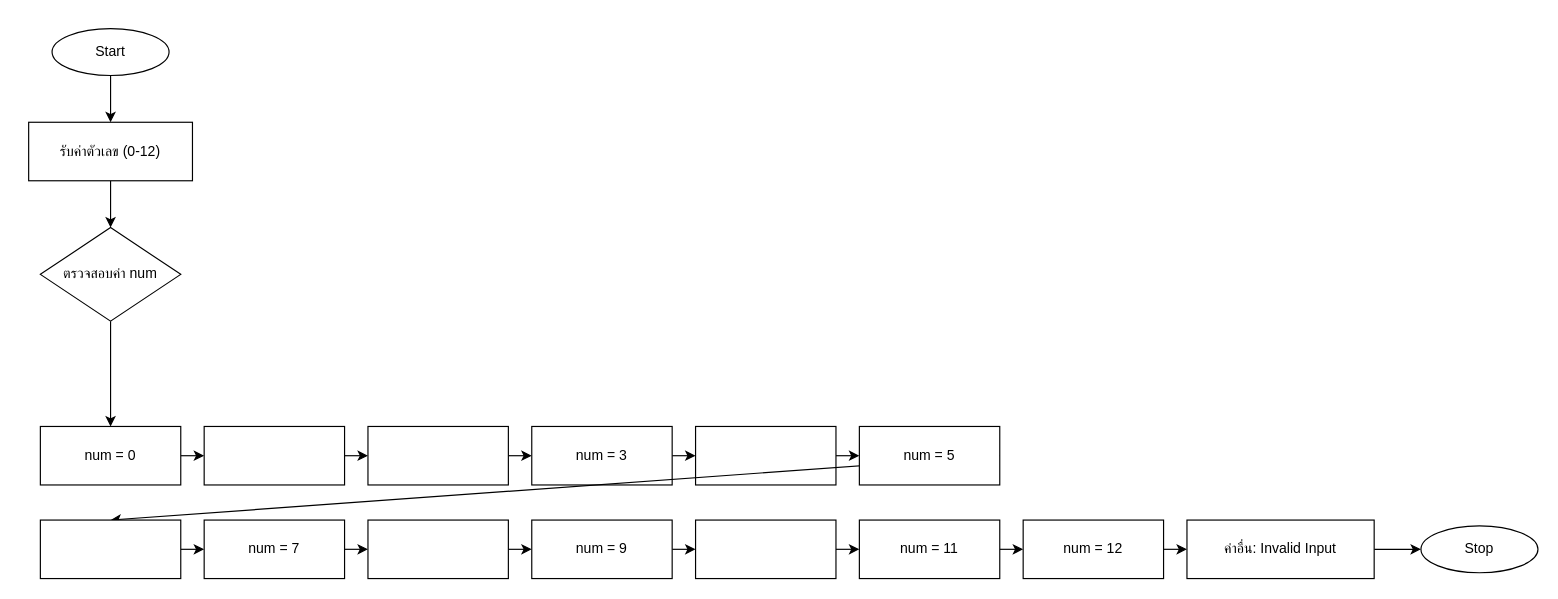
Some shapes in this 1558 by 599 pixel diagram are drawn without their labels. Each missing label, with the centre of its shape:
"num = 1" goes at point (274, 455).
"num = 10" goes at point (765, 549).
"num = 2" goes at point (437, 455).
"num = 4" goes at point (765, 455).
"num = 6" goes at point (110, 549).
"num = 8" goes at point (437, 549).
